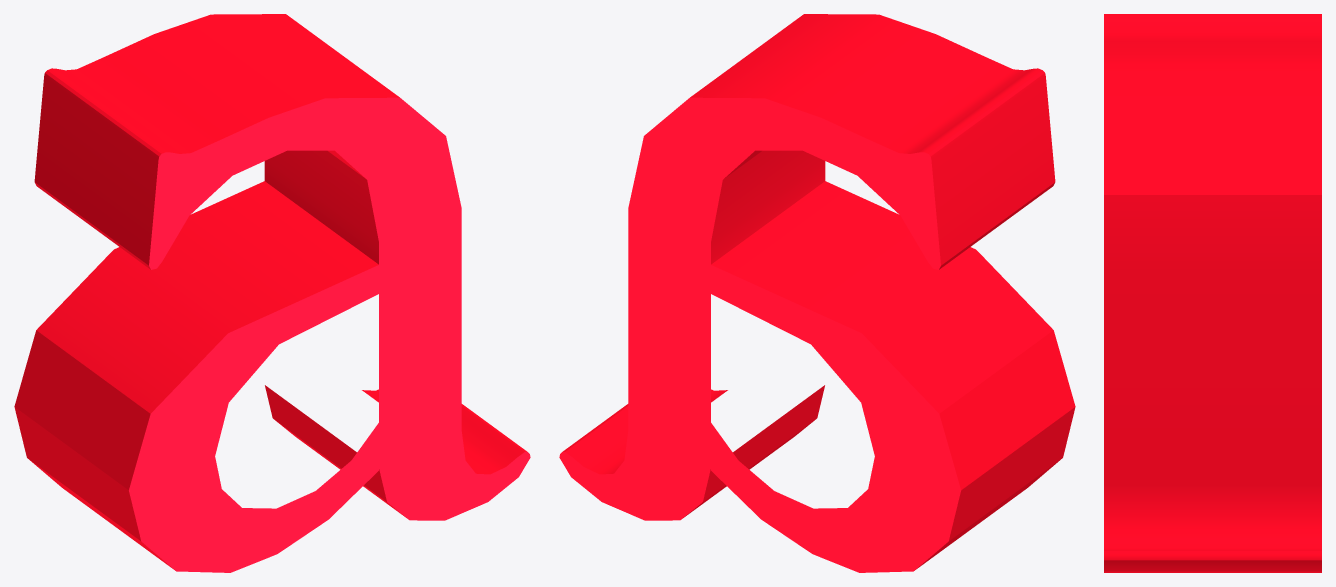
The model's file is A_Soul_Red.glb.
3 views of the same model, side by side, from view 1: azimuth 30°, elevation 25°; view 2: azimuth 150°, elevation 25°; view 3: azimuth 270°, elevation 25° (orthographic). The views are drawn at different scales.
Visible parts, largest first — view 1: a_Soul_Red; view 2: a_Soul_Red; view 3: a_Soul_Red.
Part boxes in pixels (box(x1,y1,x2,y2)): a_Soul_Red: box(14, 14, 530, 572); a_Soul_Red: box(559, 14, 1075, 572); a_Soul_Red: box(1104, 14, 1321, 572).
Size of what is drawn, in the model's own units: 0.0912 by 0.098 by 0.045.
Materials: 2 (2 with a texture image).
